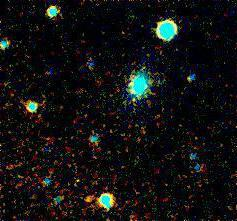star: (73, 185, 103, 215)
